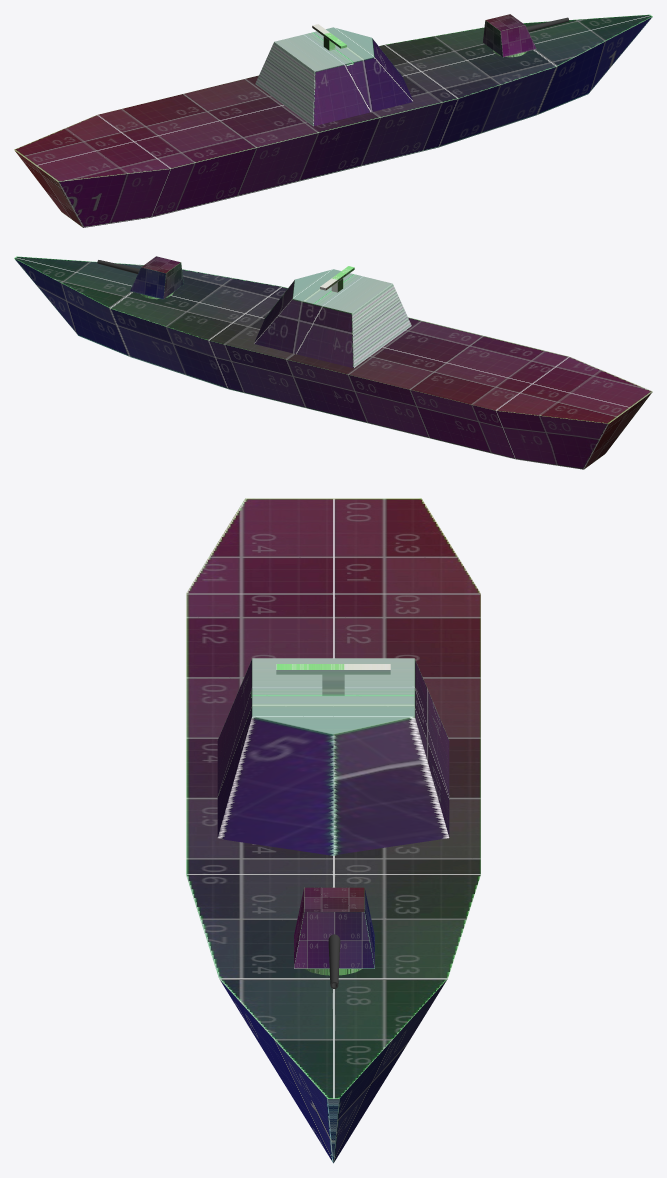
Rendered from destructor.glb.
3 views of the same model, one above another, from view 1: azimuth 30°, elevation 25°; view 2: azimuth 150°, elevation 25°; view 3: azimuth 270°, elevation 25° (orthographic). The views are drawn at different scales.
Parts seen in each view (by area): view 1: destructor, torreta; view 2: destructor, torreta; view 3: destructor, torreta.
Boxes of the visible parts, left/top/right/bottom form: destructor: left=14, top=14, right=652, bottom=227; torreta: left=482, top=14, right=536, bottom=57; destructor: left=14, top=256, right=652, bottom=469; torreta: left=130, top=256, right=183, bottom=299; destructor: left=186, top=498, right=480, bottom=1163; torreta: left=294, top=887, right=374, bottom=975.
Size of the model in its own units: 82.26 by 15.57 by 17.08.
3 materials, 2 textured.
